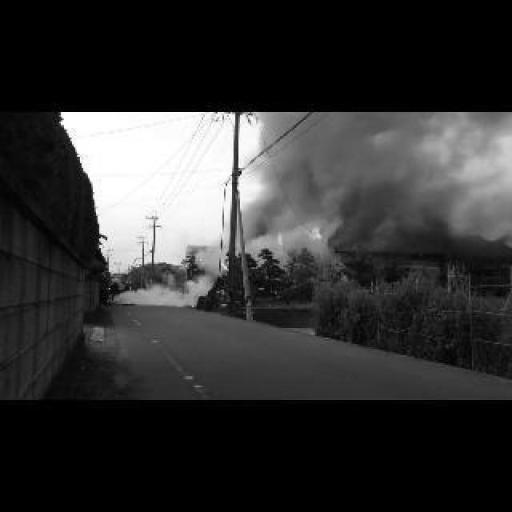smoke: (246, 110, 510, 238), (115, 280, 210, 310), (309, 227, 320, 237), (218, 262, 227, 270), (278, 229, 284, 238)
